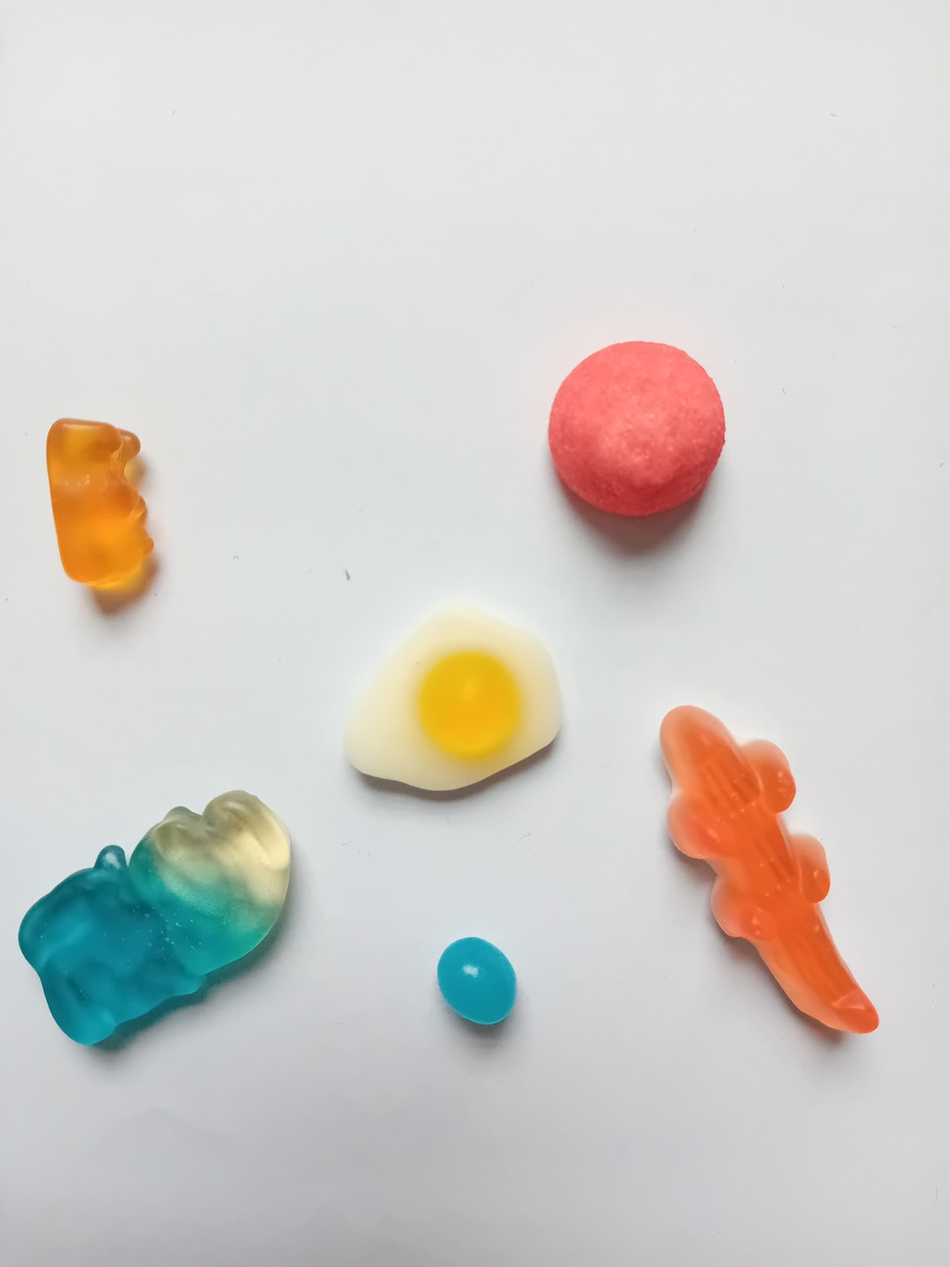crocodile_orange: (642, 696, 891, 1049)
dragibus_bleu: (426, 930, 522, 1029)
oeuf_oeuf: (335, 592, 565, 804)
ourson_orangeClair: (40, 407, 162, 599)
schtroumpf_bleu-blanc: (14, 779, 293, 1049)
tagada_fraise: (536, 337, 727, 520)
